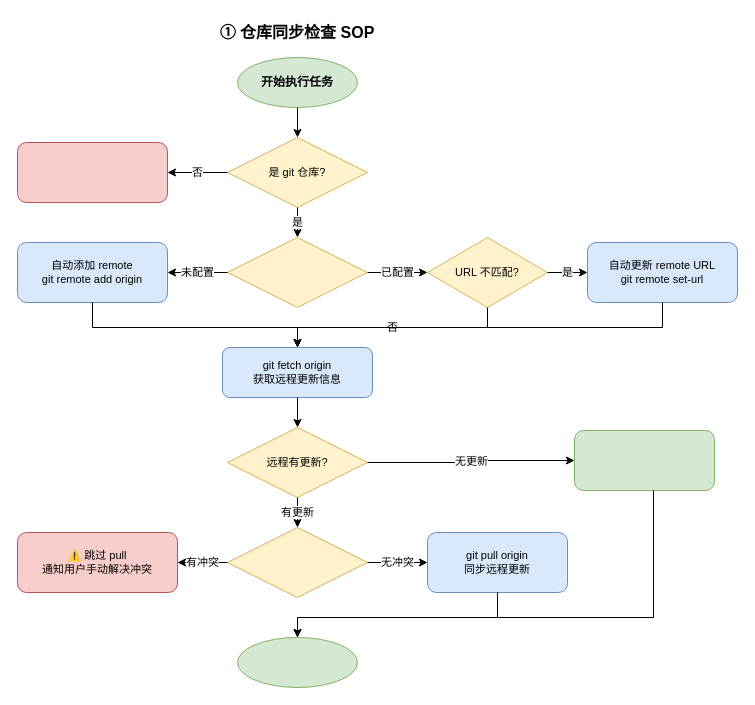
The diagram is 755 pixels wide and 705 high, and some of its shapes have lost their labels. The shapes that lost their labels are listed below. From the top down, each one's centre as x and y in pixels, then its label:
At point (92, 172): "提示用户 clone 项目 git clone".
At point (297, 272): "remote origin 已配置?".
At point (644, 460): "本地已是最新 继续执行任务".
At point (297, 562): "本地有未提交修改 可能冲突?".
At point (297, 662): "同步完成 继续执行任务".
